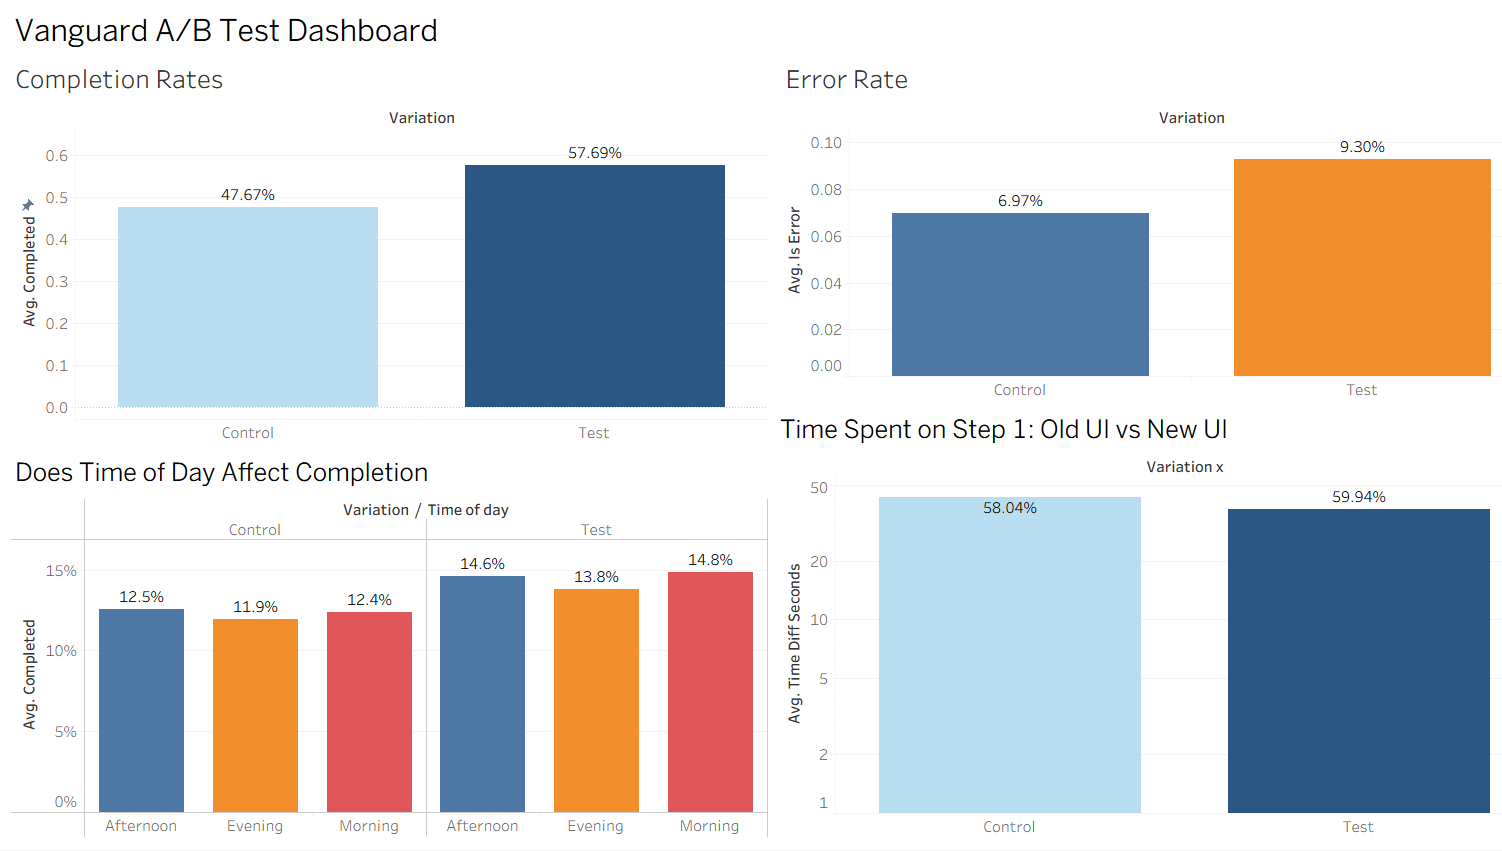

The page's visual inventory and layout, read from the dashboard file:
{"tool":"tableau","page":{"name":"Vanguard","canvas":[1000,1000],"units":"permille","ordinal":0},"visuals":[{"type":"title","box":[4.7,9.4,896.9,54.1]},{"type":"legend","title":" Error Rate","param":"[federated.1cmmgdj0b5gy7g1297fxx0ok1t71].[none:Variation:nk]","box":[901.6,9.4,93.7,84.6]},{"type":"worksheet","title":"Completion Rates","mark":"Automatic","rows":["completed"],"cols":["Variation"],"box":[4.7,63.5,448.4,463.6]},{"type":"worksheet","title":" Error Rate","mark":"Automatic","rows":["is_error"],"cols":["Variation"],"box":[453.1,63.5,448.4,413.6]},{"type":"legend","title":"Time of day vs completion","param":"[federated.1cmmgdj0b5gy7g1297fxx0ok1t71].[none:Calculation_0025024596570123:nk]","box":[901.6,94,93.7,109.3]},{"type":"legend","title":"Time spent","param":"[federated.11n5sto12odtji16r96sd0d32km1].[avg:completed:qk]","box":[901.6,203.3,93.7,85.8]},{"type":"worksheet","title":"Time spent","mark":"Automatic","rows":["time_diff_seconds"],"cols":["Variation_x"],"box":[453.1,477.1,448.4,513.5]},{"type":"worksheet","title":"Time of day vs completion","mark":"Automatic","rows":["Calculation_0025024591163401"],"cols":["Variation","Calculation_0025024596570123"],"box":[4.7,527,448.4,463.6]}]}

Visuals, with their boxes on the dashboard's canvas, which has no fixed pixel size, in thousandths of its width and height (x1, y1, x2, y2). These are canvas units, not pixel positions in the 1502x851 screenshot, which may show the page scaled, cropped or inside an application window:
title: <box>5,9,902,64</box>
" Error Rate" legend: <box>902,9,995,94</box>
"Completion Rates" worksheet: <box>5,64,453,527</box>
" Error Rate" worksheet: <box>453,64,902,477</box>
"Time of day vs completion" legend: <box>902,94,995,203</box>
"Time spent" legend: <box>902,203,995,289</box>
"Time spent" worksheet: <box>453,477,902,991</box>
"Time of day vs completion" worksheet: <box>5,527,453,991</box>
